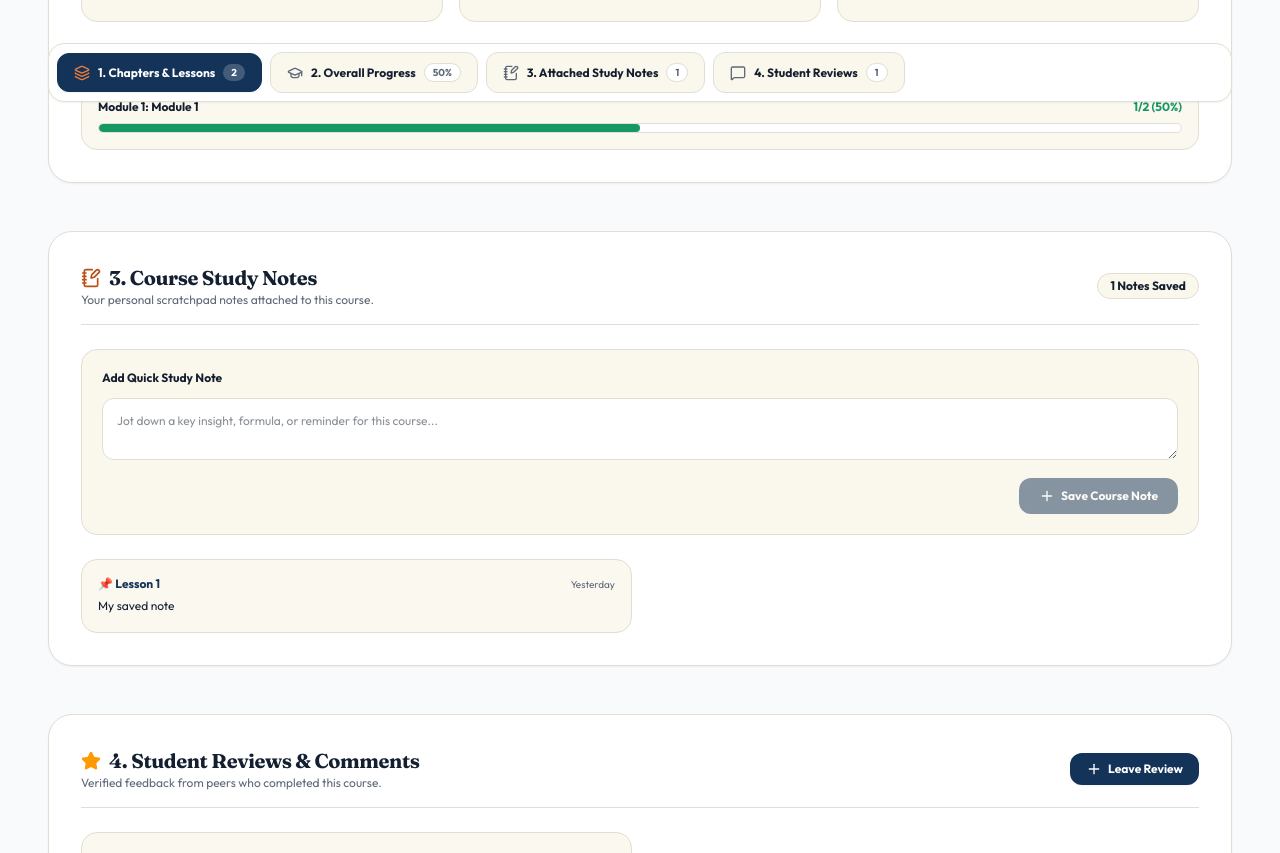
it: CourseOverviewScreen › adds a quick study note through scratchpadService.addNote
This screenshot has width=1280, height=853.
(page scrolled)
Type "A new insight" into the text box with placeholder "Jot down a key insight". click: (640, 429)
box: [102,398,1178,460]
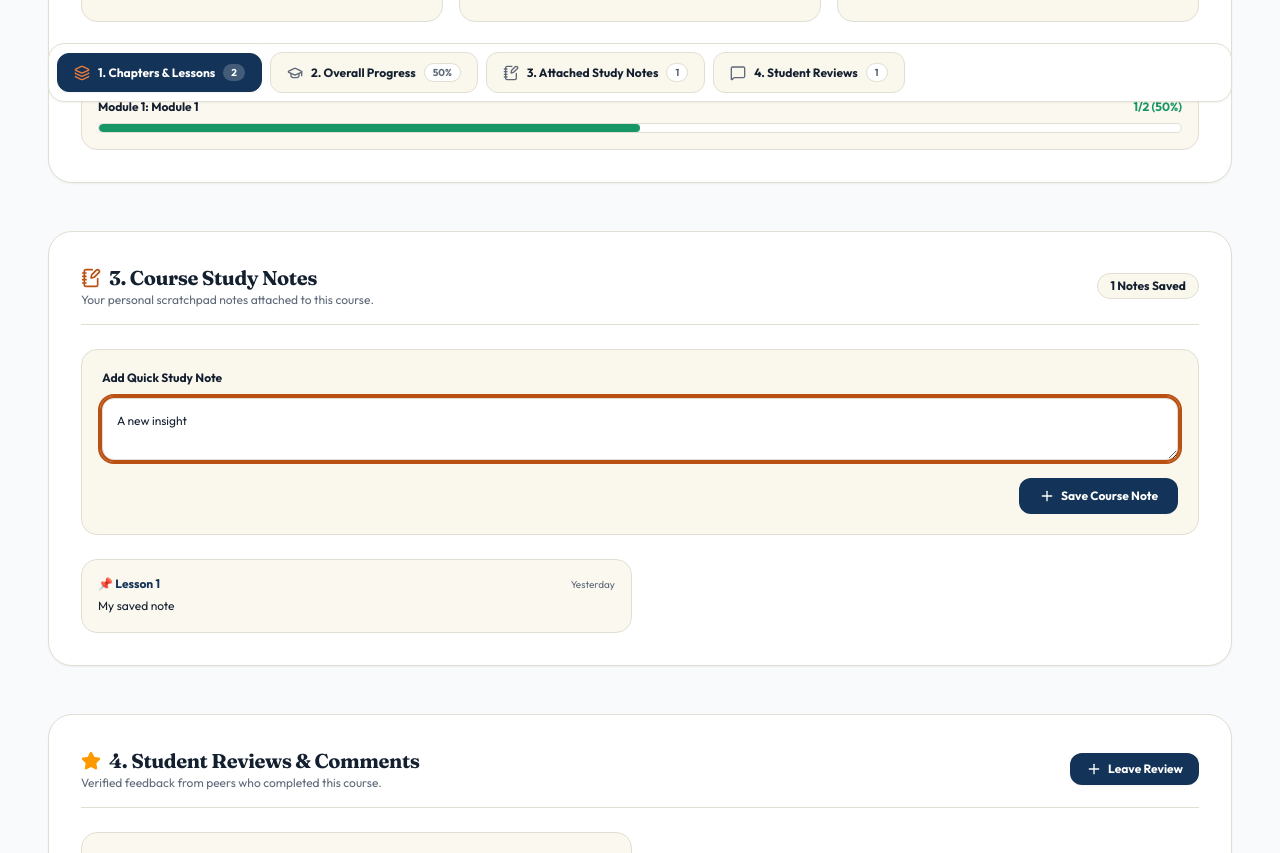
Click the button "Save Course Note". click: (1098, 496)
box: [1019,478,1178,514]
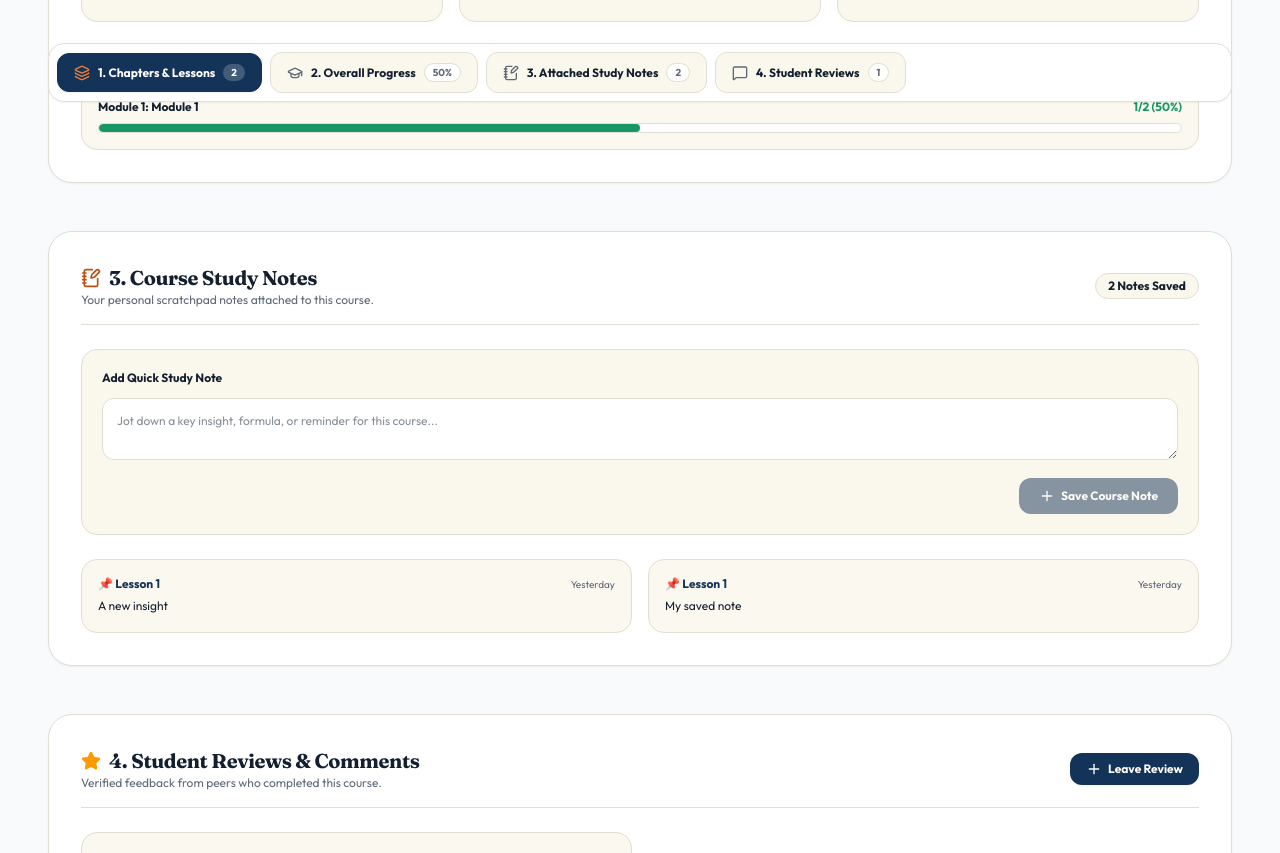
Check: the text "A new insight" is shown, box [98,598,168,613]
